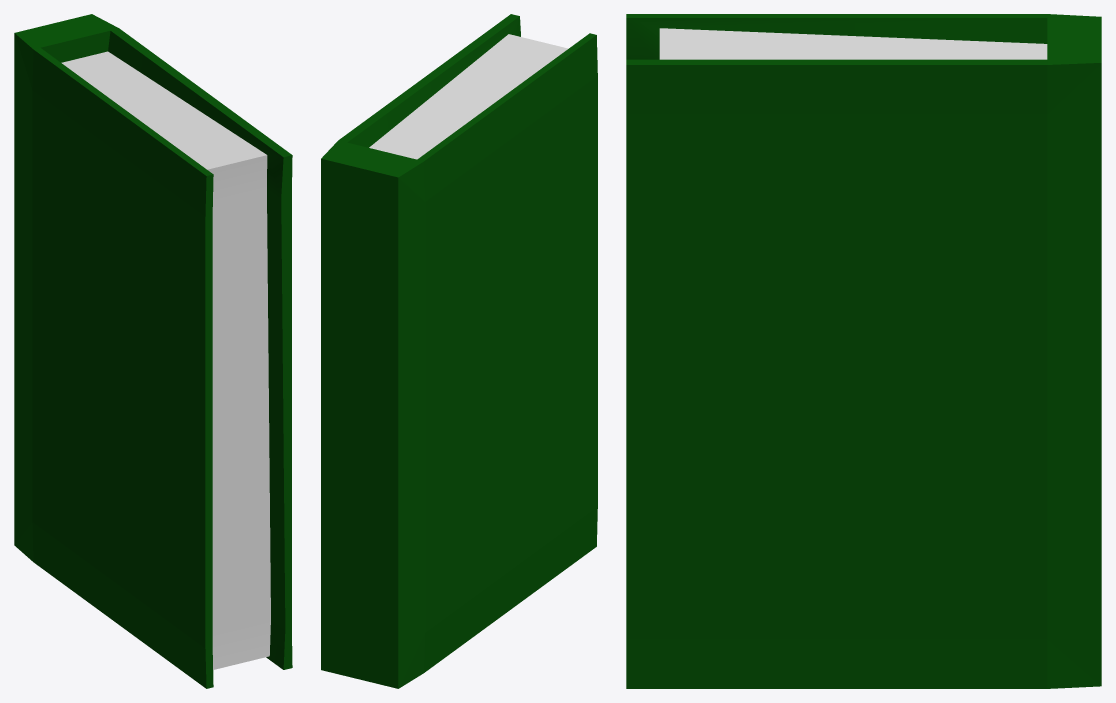
Rendered from Big_Book_Green.fbx.
3 views of the same model, side by side, from view 1: azimuth 30°, elevation 25°; view 2: azimuth 150°, elevation 25°; view 3: azimuth 270°, elevation 25° (orthographic). The views are drawn at different scales.
Parts seen in each view (by area): view 1: Book1; view 2: Book1; view 3: Book1.
Boxes of the visible parts, <box> form: Book1: <box>14,14,292,688</box>; Book1: <box>321,14,597,688</box>; Book1: <box>626,14,1101,688</box>.
Size of the model in its own units: 0.09 by 0.5071 by 0.3501.
